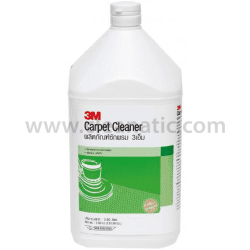Cleaning_solution: (66, 1, 186, 250)
